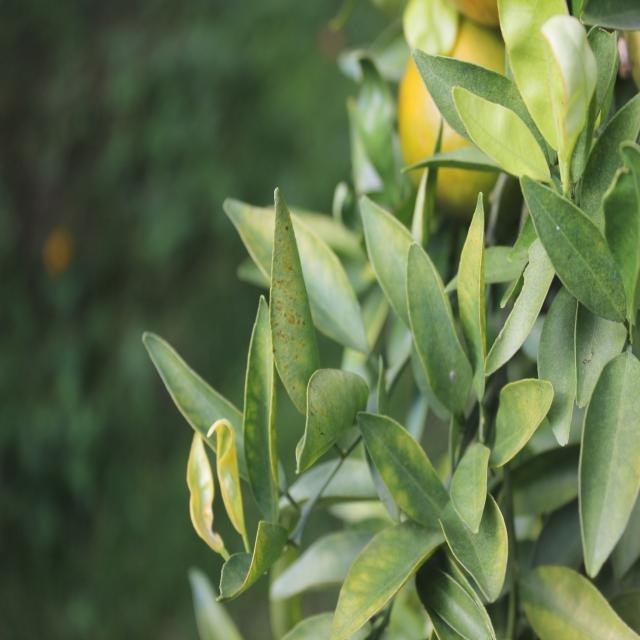melanose: (260, 175, 338, 406)
